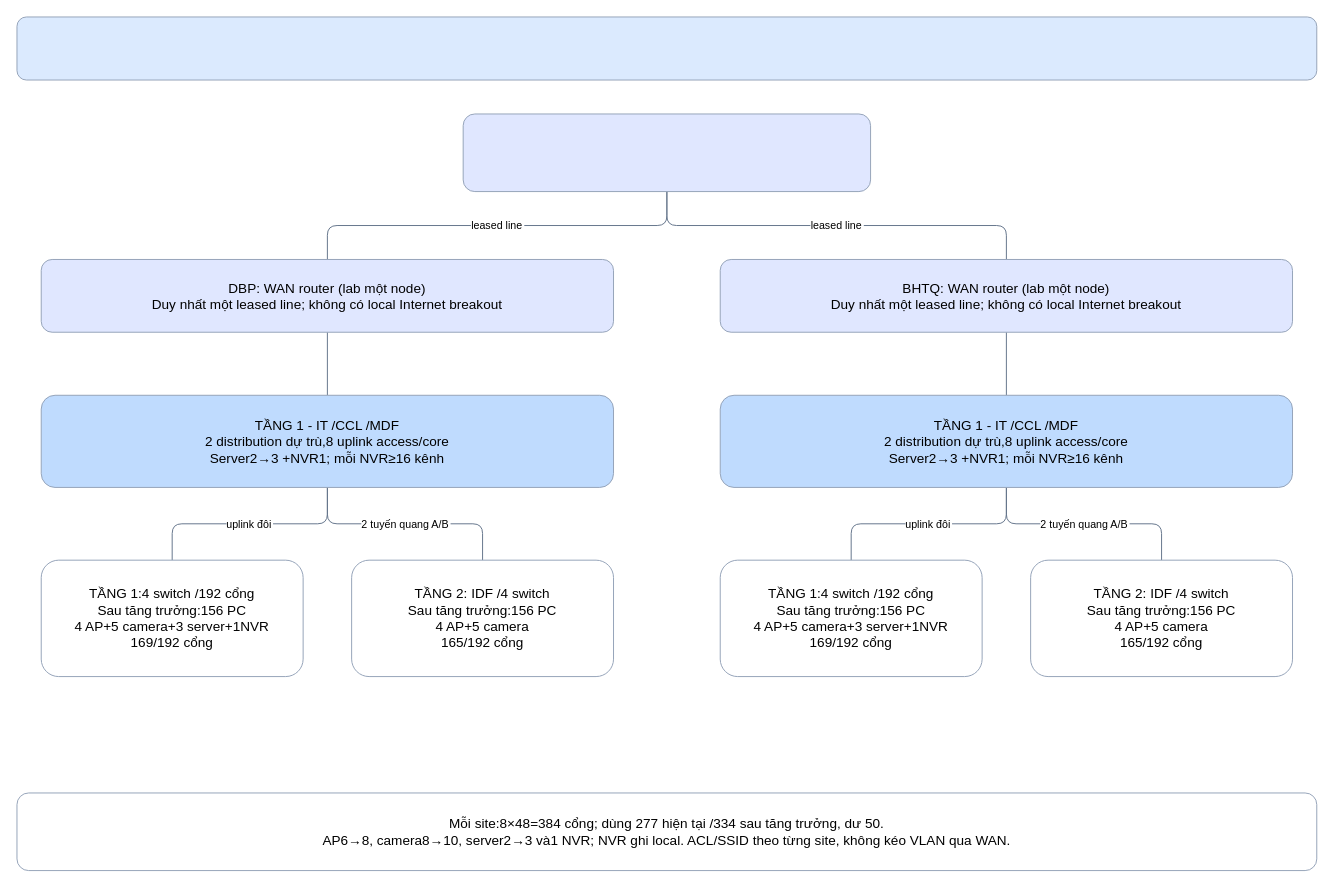
Image size: 1334x888. Some labels were removed from this diagram. The centre of each missing label's shape, as x and y in pixels:
"DBP /BHTQ: THIẾT KẾ MỖI SITE - CHƯA NGHIỆM THU" belongs at [666,48].
"Main WAN gateway 2 leased lines tách biệt; một tuyến/site" belongs at [666,152].
